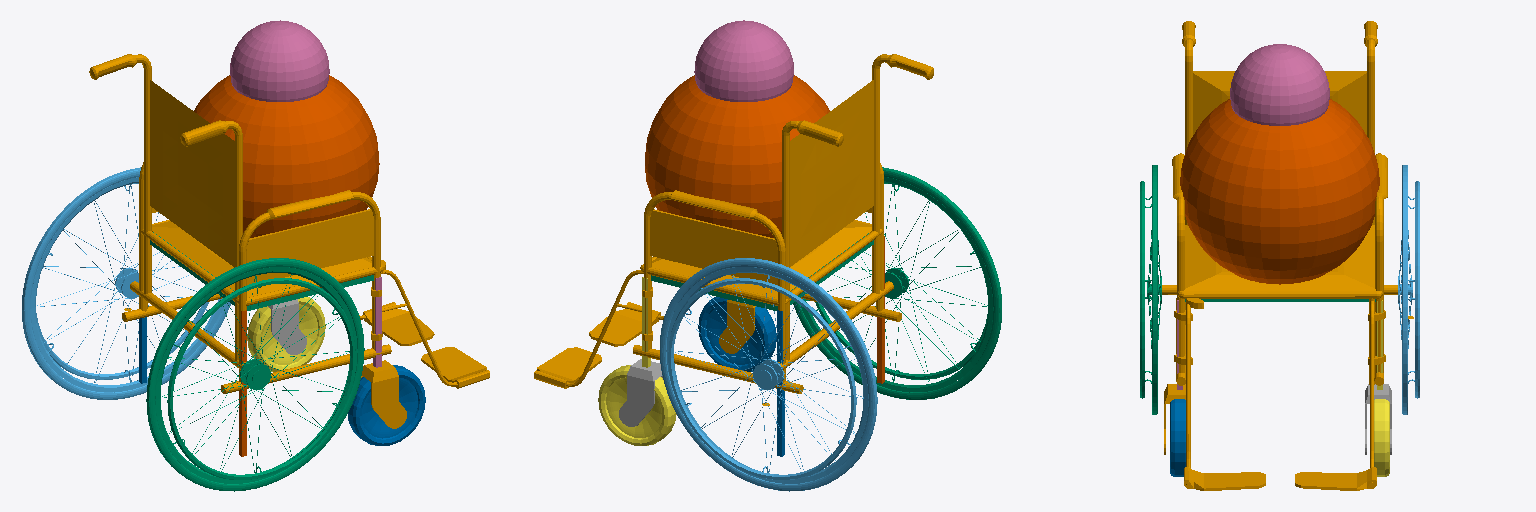
robot.urdf — wheelchair:
<?xml version="1.0" encoding="utf-8"?>
<!-- =================================================================================== -->
<!-- |    This document was autogenerated by xacro from [local-path]/wheelchair/src/wheelchair_description/urdf/wheelchair.xacro | -->
<!-- |    EDITING THIS FILE BY HAND IS NOT RECOMMENDED                                 | -->
<!-- =================================================================================== -->
<robot name="wheelchair" xmlns:xacro="http://www.ros.org/wiki/xacro">
  <!--gazebo>
    <plugin name="differential_drive_controller" filename="libgazebo_ros_diff_drive.so">
      <legacyMode>false</legacyMode>
      <alwaysOn>true</alwaysOn>
      <updateRate>20</updateRate>
      <leftJoint>axle_rear_left_wheel_joint</leftJoint>
      <rightJoint>axle_rear_right_wheel_joint</rightJoint>
      <wheelSeparation>${axle_length}</wheelSeparation>
      <wheelDiameter>${2*main_wheel_radius}</wheelDiameter>
      <torque>20</torque>
      <commandTopic>cmd_vel</commandTopic>
      <odometryTopic>odom</odometryTopic>
      <odometryFrame>odom</odometryFrame>
      <robotBaseFrame>footprint</robotBaseFrame>
    </plugin>
  </gazebo-->
  <gazebo reference="footprint">
    <material>Gazebo/Green</material>
  </gazebo>
  <gazebo reference="rear_right_wheel">
    <material>Gazebo/Blue</material>
  </gazebo>
  <gazebo reference="rear_left_wheel">
    <material>Gazebo/Blue</material>
  </gazebo>
  <gazebo reference="front_left_wheel">
    <material>Gazebo/Blue</material>
  </gazebo>
  <gazebo reference="front_right_wheel">
    <material>Gazebo/Blue</material>
  </gazebo>
  <material name="black">
    <color rgba="0.0 0.0 0.0 1.0"/>
  </material>
  <material name="blue">
    <color rgba="0.0 0.0 0.8 1.0"/>
  </material>
  <material name="green">
    <color rgba="0.0 0.8 0.0 1.0"/>
  </material>
  <material name="grey">
    <color rgba="0.2 0.2 0.2 1.0"/>
  </material>
  <material name="orange">
    <color rgba="1.0 0.423529411765 0.0392156862745 1.0"/>
  </material>
  <material name="brown">
    <color rgba="0.870588235294 0.811764705882 0.764705882353 1.0"/>
  </material>
  <material name="red">
    <color rgba="0.8 0.0 0.0 1.0"/>
  </material>
  <material name="white">
    <color rgba="1.0 1.0 1.0 1.0"/>
  </material>
  <!--
    <gazebo reference="${lr}_wheel">
      <mu1 value="1.0"/>
      <mu2 value="1.0"/>
      <kp  value="10000000.0" />
      <kd  value="1.0" />
      <fdir1 value="1 0 0"/>
      <material>Gazebo/Black</material>
    </gazebo>


    <joint name="${lr}_wheel_hinge" type="continuous">
      <parent link="chassis"/>
      <child link="${lr}_wheel"/>
    <origin xyz="${-wheelPos+chassisLength/2} ${tY*wheelWidth/2+tY*chassisWidth/2} ${wheelRadius}" rpy="0 0 0" />
      <axis xyz="0 1 0" rpy="0 0 0" />
      <limit effort="10000" velocity="10000"/>
      <joint_properties damping="0.0" friction="0.0"/>
    </joint>


    <transmission name="${lr}_trans">
      <type>transmission_interface/SimpleTransmission</type>
      <joint name="${lr}_wheel_hinge">
        <hardwareInterface>EffortJointInterface</hardwareInterface>
      </joint>
      <actuator name="${lr}Motor">
        <hardwareInterface>EffortJointInterface</hardwareInterface>
        <mechanicalReduction>10</mechanicalReduction>
      </actuator>
    </transmission>
  -->
  <link name="footprint">
    <pose rpy=" 0 0 0" xyz="1 0 0"/>
    <visual>
      <origin rpy=" 0 0 0" xyz="0 0 0"/>
      <geometry>
        <box size="0.001 0.001 0.001"/>
      </geometry>
    </visual>
    <visual>
      <origin rpy="0 0 -3.14" xyz="0 0 0"/>
      <geometry>
        <mesh filename="package://wheelchair_description/meshes/wheelchair_chasis.stl" scale="0.01 0.01 0.01"/>
      </geometry>
    </visual>
  </link>
  <link name="axle">
    <inertial>
      <origin rpy=" 0 0 0" xyz="0 0 0"/>
      <mass value="2.0"/>
      <inertia ixx="0.0271611884373" ixy="0" ixz="0" iyy="3.33333333333e-05" iyz="0" izz="3.33333333333e-05"/>
    </inertial>
    <collision name="collision">
      <origin rpy=" 0 0 0" xyz="0 0 0"/>
      <geometry>
        <box size="0.01 0.403568 0.01"/>
      </geometry>
    </collision>
    <visual>
      <origin rpy=" 0 0 0" xyz="0 0 0"/>
      <geometry>
        <box size="0.01 0.403568 0.01"/>
      </geometry>
    </visual>
  </link>
  <joint name="footprint_axle_joint" type="fixed">
    <origin rpy="0 0 0" xyz="0 0 0.201784"/>
    <parent link="footprint"/>
    <child link="axle"/>
  </joint>
  <link name="base">
    <collision name="base_chassis_collision">
      <geometry>
        <box size="0.250676 0.323568 0.01"/>
      </geometry>
    </collision>
    <visual name="base_visual">
      <origin rpy="0 0 0" xyz="0.125338 0 0"/>
      <geometry>
        <box size="0.250676 0.323568 0.01"/>
      </geometry>
    </visual>
    <inertial name="base_intertial">
      <origin rpy="0 0 0" xyz="0.125338 0 0"/>
      <mass value="73.0"/>
      <inertia ixx="0.637510524629" ixy="0" ixz="0" iyy="0.382875613271" iyz="0" izz="0.382875613271"/>
    </inertial>
  </link>
  <joint name="axle_base_joint" type="fixed">
    <origin rpy="0 0 0" xyz="0 0 0.1"/>
    <parent link="axle"/>
    <child link="base"/>
  </joint>
  <link name="front_left_leg">
    <collision name="front_left_leg_chassis_collision">
      <geometry>
        <box size="0.01 0.01 0.16"/>
      </geometry>
    </collision>
    <visual name="front_left_leg_visual">
      <origin rpy="0 0 0" xyz="0 0 -0.08"/>
      <geometry>
        <box size="0.01 0.01 0.16"/>
      </geometry>
    </visual>
    <inertial name="front_left_leg_intertial">
      <origin rpy="0 0 0" xyz="0 0 -0.08"/>
      <mass value="0.25"/>
      <inertia ixx="0.000535416666667" ixy="0" ixz="0" iyy="0.000535416666667" iyz="0" izz="0.000535416666667"/>
    </inertial>
  </link>
  <joint name="base_front_left_leg_joint" type="fixed">
    <origin rpy="0 0 0" xyz="0.250676 0.161784 0"/>
    <parent link="base"/>
    <child link="front_left_leg"/>
  </joint>
  <link name="rear_left_leg">
    <collision name="rear_left_leg_chassis_collision">
      <geometry>
        <box size="0.01 0.01 0.26"/>
      </geometry>
    </collision>
    <visual name="rear_left_leg_visual">
      <origin rpy="0 0 0" xyz="0 0 -0.13"/>
      <geometry>
        <box size="0.01 0.01 0.26"/>
      </geometry>
    </visual>
    <inertial name="rear_left_leg_intertial">
      <origin rpy="0 0 0" xyz="0 0 -0.13"/>
      <mass value="0.25"/>
      <inertia ixx="0.00141041666667" ixy="0" ixz="0" iyy="0.00141041666667" iyz="0" izz="0.00141041666667"/>
    </inertial>
  </link>
  <joint name="base_rear_left_leg_joint" type="fixed">
    <origin rpy="0 0 0" xyz="0 0.161784 0"/>
    <parent link="base"/>
    <child link="rear_left_leg"/>
  </joint>
  <link name="rear_right_leg">
    <collision name="rear_right_leg_chassis_collision">
      <geometry>
        <box size="0.01 0.01 0.26"/>
      </geometry>
    </collision>
    <visual name="rear_right_leg_visual">
      <origin rpy="0 0 0" xyz="0 0 -0.13"/>
      <geometry>
        <box size="0.01 0.01 0.26"/>
      </geometry>
    </visual>
    <inertial name="rear_right_leg_intertial">
      <origin rpy="0 0 0" xyz="0 0 -0.13"/>
      <mass value="0.25"/>
      <inertia ixx="0.00141041666667" ixy="0" ixz="0" iyy="0.00141041666667" iyz="0" izz="0.00141041666667"/>
    </inertial>
  </link>
  <joint name="base_rear_right_leg_joint" type="fixed">
    <origin rpy="0 0 0" xyz="0 -0.161784 0"/>
    <parent link="base"/>
    <child link="rear_right_leg"/>
  </joint>
  <link name="front_right_leg">
    <collision name="front_right_leg_chassis_collision">
      <geometry>
        <box size="0.01 0.01 0.16"/>
      </geometry>
    </collision>
    <visual name="front_right_leg_visual">
      <origin rpy="0 0 0" xyz="0 0 -0.08"/>
      <geometry>
        <box size="0.01 0.01 0.16"/>
      </geometry>
    </visual>
    <inertial name="front_right_leg_intertial">
      <origin rpy="0 0 0" xyz="0 0 -0.08"/>
      <mass value="0.25"/>
      <inertia ixx="0.000535416666667" ixy="0" ixz="0" iyy="0.000535416666667" iyz="0" izz="0.000535416666667"/>
    </inertial>
  </link>
  <joint name="base_front_right_leg_joint" type="fixed">
    <origin rpy="0 0 0" xyz="0.250676 -0.161784 0"/>
    <parent link="base"/>
    <child link="front_right_leg"/>
  </joint>
  <link name="front_left_leg_rev">
    <collision name="front_left_leg_rev_collision">
      <origin rpy="0 0 0" xyz=" 0 0 0"/>
      <geometry>
        <cylinder length="0.1" radius="0.01"/>
      </geometry>
    </collision>
    <!--
      <visual name="${lr}_visual">
        <transparency>0.1</transparency>
        <origin xyz="${xyz}" rpy="${rpy}" />
        <geometry>
          <cylinder length="${wheelWidth - tY}" radius="${wheelRadius}"/>
        </geometry>

        <material name="green"/>
      </visual>
    -->
    <visual name="front_left_leg_rev_visual_mesh">
      <origin rpy="0 0 0" xyz=" 0 0 0"/>
      <geometry>
        <mesh filename="package://wheelchair_description/meshes/wheelchair_wheel_rev.stl" scale="0.01 0.01 0.01"/>
      </geometry>
    </visual>
    <inertial name="front_left_leg_rev_visual_intertial">
      <origin rpy="0 1.57079632679 1.57079632679" xyz="0 0 0"/>
      <mass value="0.25"/>
      <inertia ixx="0.000214583333333" ixy="0" ixz="0" iyy="0.000214583333333" iyz="0" izz="1.25e-05"/>
    </inertial>
  </link>
  <joint name="front_left_leg_front_left_leg_rev_joint" type="continuous">
    <origin rpy="0 0 0" xyz="0 0 -0.16"/>
    <child link="front_left_leg_rev"/>
    <parent link="front_left_leg"/>
    <axis rpy="0 0 0" xyz="0 0 1"/>
    <limit effort="100" velocity="100"/>
    <joint_properties damping="0.01" friction="0.5"/>
  </joint>
  <link name="front_right_leg_rev">
    <collision name="front_right_leg_rev_collision">
      <origin rpy="0 0 0" xyz=" 0 0 0"/>
      <geometry>
        <cylinder length="0.1" radius="0.01"/>
      </geometry>
    </collision>
    <!--
      <visual name="${lr}_visual">
        <transparency>0.1</transparency>
        <origin xyz="${xyz}" rpy="${rpy}" />
        <geometry>
          <cylinder length="${wheelWidth - tY}" radius="${wheelRadius}"/>
        </geometry>

        <material name="green"/>
      </visual>
    -->
    <visual name="front_right_leg_rev_visual_mesh">
      <origin rpy="0 0 0" xyz=" 0 0 0"/>
      <geometry>
        <mesh filename="package://wheelchair_description/meshes/wheelchair_wheel_rev.stl" scale="0.01 0.01 0.01"/>
      </geometry>
    </visual>
    <inertial name="front_right_leg_rev_visual_intertial">
      <origin rpy="0 1.57079632679 1.57079632679" xyz="0 0 0"/>
      <mass value="0.25"/>
      <inertia ixx="0.000214583333333" ixy="0" ixz="0" iyy="0.000214583333333" iyz="0" izz="1.25e-05"/>
    </inertial>
  </link>
  <joint name="front_right_leg_front_right_leg_rev_joint" type="continuous">
    <origin rpy="0 0 0" xyz="0 0 -0.16"/>
    <child link="front_right_leg_rev"/>
    <parent link="front_right_leg"/>
    <axis rpy="0 0 0" xyz="0 0 1"/>
    <limit effort="100" velocity="100"/>
    <joint_properties damping="0.01" friction="0.5"/>
  </joint>
  <link name="rear_left_wheel">
    <collision name="rear_left_wheel_collision">
      <origin rpy="-1.57079632679 0 0" xyz=" 0 0 0"/>
      <geometry>
        <cylinder length="0.0356884" radius="0.201784"/>
      </geometry>
    </collision>
    <!--
      <visual name="${lr}_visual">
        <transparency>0.1</transparency>
        <origin xyz="${xyz}" rpy="${rpy}" />
        <geometry>
          <cylinder length="${wheelWidth - tY}" radius="${wheelRadius}"/>
        </geometry>

        <material name="green"/>
      </visual>
    -->
    <visual name="rear_left_wheel_visual_mesh">
      <origin rpy="-1.57079632679 0 0" xyz=" 0 0 0"/>
      <geometry>
        <mesh filename="package://wheelchair_description/meshes/wheelchair_wheel.stl" scale="0.01 0.01 0.01"/>
      </geometry>
    </visual>
    <inertial name="rear_left_wheel_visual_intertial">
      <origin rpy="0 1.57079632679 1.57079632679" xyz="0 0 0"/>
      <mass value="3.0"/>
      <inertia ixx="0.0308560024656" ixy="0" ixz="0" iyy="0.0308560024656" iyz="0" izz="0.061075173984"/>
    </inertial>
  </link>
  <joint name="axle_rear_left_wheel_joint" type="continuous">
    <origin rpy="0 0 0" xyz="0 0.201784 0"/>
    <child link="rear_left_wheel"/>
    <parent link="axle"/>
    <axis rpy="0 0 0" xyz="0 1 0"/>
    <limit effort="100" velocity="100"/>
    <joint_properties damping="0.01" friction="0.5"/>
  </joint>
  <link name="rear_right_wheel">
    <collision name="rear_right_wheel_collision">
      <origin rpy="1.57079632679 0 0" xyz=" 0 0 0"/>
      <geometry>
        <cylinder length="0.0356884" radius="0.201784"/>
      </geometry>
    </collision>
    <!--
      <visual name="${lr}_visual">
        <transparency>0.1</transparency>
        <origin xyz="${xyz}" rpy="${rpy}" />
        <geometry>
          <cylinder length="${wheelWidth - tY}" radius="${wheelRadius}"/>
        </geometry>

        <material name="green"/>
      </visual>
    -->
    <visual name="rear_right_wheel_visual_mesh">
      <origin rpy="1.57079632679 0 0" xyz=" 0 0 0"/>
      <geometry>
        <mesh filename="package://wheelchair_description/meshes/wheelchair_wheel.stl" scale="0.01 0.01 0.01"/>
      </geometry>
    </visual>
    <inertial name="rear_right_wheel_visual_intertial">
      <origin rpy="0 1.57079632679 1.57079632679" xyz="0 0 0"/>
      <mass value="3.0"/>
      <inertia ixx="0.0308560024656" ixy="0" ixz="0" iyy="0.0308560024656" iyz="0" izz="0.061075173984"/>
    </inertial>
  </link>
  <joint name="axle_rear_right_wheel_joint" type="continuous">
    <origin rpy="0 0 0" xyz="0 -0.201784 0"/>
    <child link="rear_right_wheel"/>
    <parent link="axle"/>
    <axis rpy="0 0 0" xyz="0 1 0"/>
    <limit effort="100" velocity="100"/>
    <joint_properties damping="0.01" friction="0.5"/>
  </joint>
  <link name="front_left_wheel">
    <collision name="front_left_wheel_collision">
      <origin rpy="1.57079632679 0 0" xyz=" 0 0 0"/>
      <geometry>
        <cylinder length="0.032" radius="0.068"/>
      </geometry>
    </collision>
    <!--
      <visual name="${lr}_visual">
        <transparency>0.1</transparency>
        <origin xyz="${xyz}" rpy="${rpy}" />
        <geometry>
          <cylinder length="${wheelWidth - tY}" radius="${wheelRadius}"/>
        </geometry>

        <material name="green"/>
      </visual>
    -->
    <visual name="front_left_wheel_visual_mesh">
      <origin rpy="1.57079632679 0 0" xyz=" 0 0 0"/>
      <geometry>
        <mesh filename="package://wheelchair_description/meshes/wheelchair_wheel_small.stl" scale="0.01 0.01 0.01"/>
      </geometry>
    </visual>
    <inertial name="front_left_wheel_visual_intertial">
      <origin rpy="0 1.57079632679 1.57079632679" xyz="0 0 0"/>
      <mass value="1.5"/>
      <inertia ixx="0.001862" ixy="0" ixz="0" iyy="0.001862" iyz="0" izz="0.003468"/>
    </inertial>
  </link>
  <joint name="front_left_leg_rev_front_left_wheel_joint" type="continuous">
    <origin rpy="0 0 0" xyz="0.017 0 -0.07352"/>
    <child link="front_left_wheel"/>
    <parent link="front_left_leg_rev"/>
    <axis rpy="0 0 0" xyz="0 1 0"/>
    <limit effort="100" velocity="100"/>
    <joint_properties damping="0.01" friction="0.5"/>
  </joint>
  <link name="front_right_wheel">
    <collision name="front_right_wheel_collision">
      <origin rpy="1.57079632679 0 0" xyz=" 0 0 0"/>
      <geometry>
        <cylinder length="0.032" radius="0.068"/>
      </geometry>
    </collision>
    <!--
      <visual name="${lr}_visual">
        <transparency>0.1</transparency>
        <origin xyz="${xyz}" rpy="${rpy}" />
        <geometry>
          <cylinder length="${wheelWidth - tY}" radius="${wheelRadius}"/>
        </geometry>

        <material name="green"/>
      </visual>
    -->
    <visual name="front_right_wheel_visual_mesh">
      <origin rpy="1.57079632679 0 0" xyz=" 0 0 0"/>
      <geometry>
        <mesh filename="package://wheelchair_description/meshes/wheelchair_wheel_small.stl" scale="0.01 0.01 0.01"/>
      </geometry>
    </visual>
    <inertial name="front_right_wheel_visual_intertial">
      <origin rpy="0 1.57079632679 1.57079632679" xyz="0 0 0"/>
      <mass value="1.5"/>
      <inertia ixx="0.001862" ixy="0" ixz="0" iyy="0.001862" iyz="0" izz="0.003468"/>
    </inertial>
  </link>
  <joint name="front_right_leg_rev_front_right_wheel_joint" type="continuous">
    <origin rpy="0 0 0" xyz="0.017 0 -0.07352"/>
    <child link="front_right_wheel"/>
    <parent link="front_right_leg_rev"/>
    <axis rpy="0 0 0" xyz="0 1 0"/>
    <limit effort="100" velocity="100"/>
    <joint_properties damping="0.01" friction="0.5"/>
  </joint>
  <link name="person_body">
    <collision name="person_body_collision">
      <geometry>
        <sphere radius="0.161784"/>
      </geometry>
      <surface>
        <friction>
          <ode>
            <mu>0</mu>
            <mu2>0</mu2>
            <slip1>0.0</slip1>
            <slip2>0.0</slip2>
          </ode>
        </friction>
      </surface>
    </collision>
    <visual name="person_body_visual">
      <origin rpy="0 0 0" xyz="0 0 0"/>
      <geometry>
        <sphere radius="0.161784"/>
      </geometry>
    </visual>
    <inertial name="person_body_intertial">
      <origin rpy="0 0 0" xyz="0 0 0"/>
      <mass value="60"/>
      <inertia ixx="0.628177503744" ixy="0" ixz="0" iyy="0.628177503744" iyz="0" izz="0.628177503744"/>
    </inertial>
  </link>
  <joint name="base_person_body_joint" type="fixed">
    <origin rpy="0 0 0" xyz="0.161784 0 0.161784"/>
    <parent link="base"/>
    <child link="person_body"/>
  </joint>
  <link name="person_head">
    <collision name="person_head_collision">
      <geometry>
        <sphere radius="0.080892"/>
      </geometry>
      <surface>
        <friction>
          <ode>
            <mu>0</mu>
            <mu2>0</mu2>
            <slip1>0.0</slip1>
            <slip2>0.0</slip2>
          </ode>
        </friction>
      </surface>
    </collision>
    <visual name="person_head_visual">
      <origin rpy="0 0 0" xyz="0 0 0"/>
      <geometry>
        <sphere radius="0.080892"/>
      </geometry>
    </visual>
    <inertial name="person_head_intertial">
      <origin rpy="0 0 0" xyz="0 0 0"/>
      <mass value="5"/>
      <inertia ixx="0.013087031328" ixy="0" ixz="0" iyy="0.013087031328" iyz="0" izz="0.013087031328"/>
    </inertial>
  </link>
  <joint name="person_body_person_head_joint" type="fixed">
    <origin rpy="0 0 0" xyz="0 0 0.161784"/>
    <parent link="person_body"/>
    <child link="person_head"/>
  </joint>
</robot>

--- Facts derived from the render (not from the file) ---
Views: 3 orthographic renders of the robot side by side, from view 1: azimuth 30°, elevation 25°; view 2: azimuth 150°, elevation 25°; view 3: azimuth 270°, elevation 25°.
Model wheelchair with 15 links and 14 joints (6 continuous, 8 fixed), rooted at footprint, posed every joint at zero.
Visible links, largest first — view 1: footprint, person_body, rear_right_wheel, rear_left_wheel, person_head, front_right_wheel, front_left_wheel, front_right_leg_rev, front_left_leg_rev, base, rear_right_leg, front_right_leg; view 2: footprint, person_body, rear_left_wheel, rear_right_wheel, person_head, front_left_wheel, front_right_wheel, front_left_leg_rev, front_right_leg_rev, base, rear_left_leg, rear_right_leg; view 3: person_body, footprint, person_head, rear_right_wheel, rear_left_wheel, front_right_wheel, front_left_wheel, front_left_leg_rev.
Boxes of the visible links, box(x1,y1,x2,y2) form: footprint: box(89, 54, 489, 393); person_body: box(194, 75, 379, 237); rear_right_wheel: box(146, 258, 364, 491); rear_left_wheel: box(22, 167, 230, 399); person_head: box(230, 20, 329, 101); front_right_wheel: box(348, 365, 425, 445); front_left_wheel: box(247, 297, 325, 371); front_right_leg_rev: box(361, 360, 406, 428); front_left_leg_rev: box(268, 299, 306, 354); base: box(150, 232, 373, 310); rear_right_leg: box(239, 310, 246, 456); front_right_leg: box(373, 277, 381, 367); footprint: box(534, 54, 933, 405); person_body: box(645, 75, 829, 237); rear_left_wheel: box(660, 258, 877, 491); rear_right_wheel: box(793, 167, 1001, 399); person_head: box(694, 20, 793, 101); front_left_wheel: box(598, 365, 676, 445); front_right_wheel: box(698, 297, 776, 371); front_left_leg_rev: box(619, 359, 662, 426); front_right_leg_rev: box(719, 300, 755, 353); base: box(651, 233, 873, 310); rear_left_leg: box(777, 310, 784, 456); rear_right_leg: box(877, 236, 884, 383); person_body: box(1180, 99, 1379, 284); footprint: box(1162, 21, 1413, 490); person_head: box(1230, 44, 1329, 125); rear_right_wheel: box(1140, 165, 1161, 414); rear_left_wheel: box(1398, 165, 1419, 414); front_right_wheel: box(1170, 399, 1185, 476); front_left_wheel: box(1374, 399, 1389, 476); front_left_leg_rev: box(1365, 384, 1391, 454).
Size in the robot's own frame: 0.6804 by 0.4522 by 0.7067 metres.
7 mesh visuals loaded from 4 distinct referenced files (4 binary STL).
